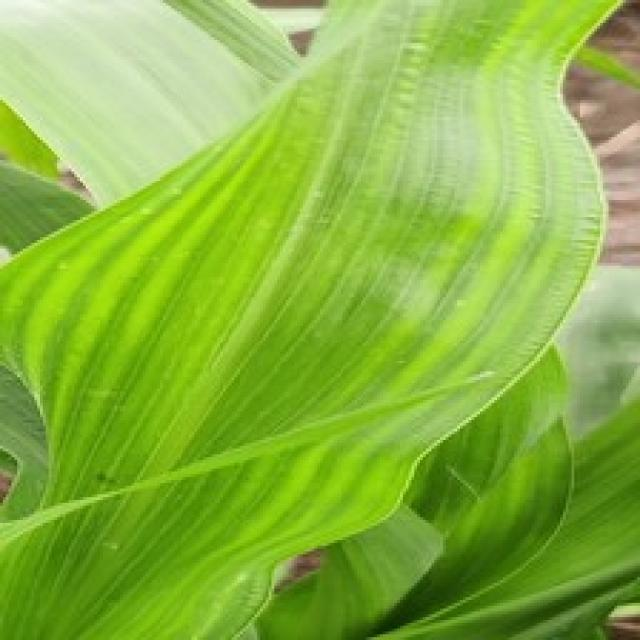Corn: (0, 0, 637, 637), (0, 0, 303, 211)
